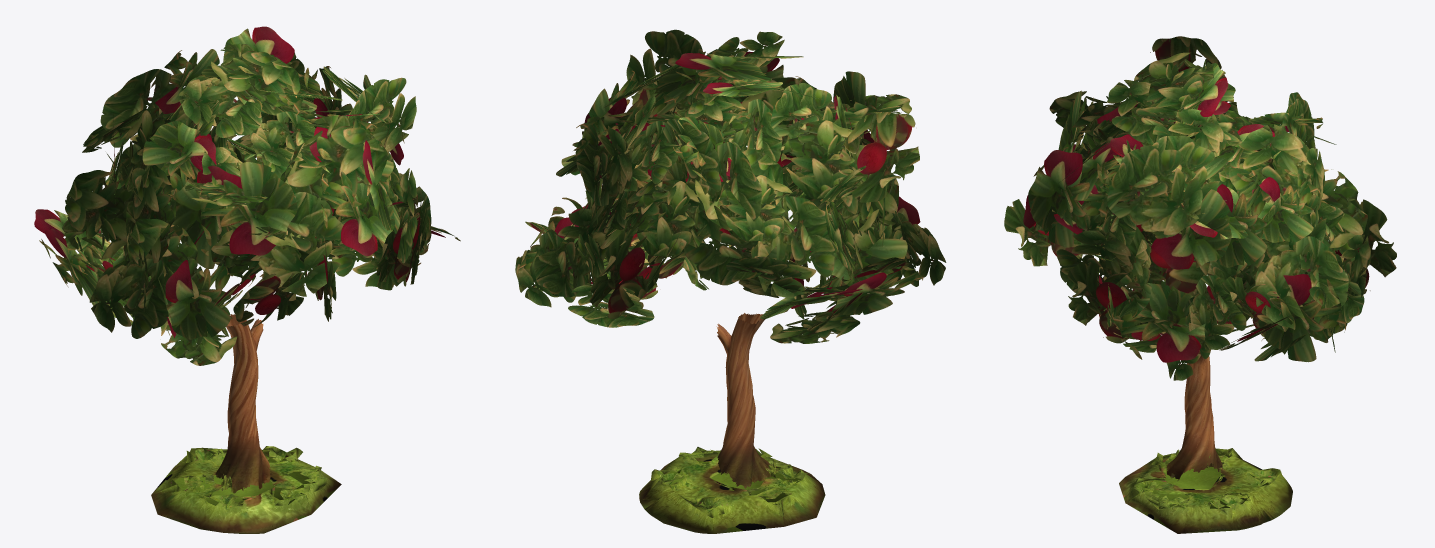
Rendered from Pomegranate_Tree.fbx.
3 renders of one model, left to right at view 1: azimuth 30°, elevation 25°; view 2: azimuth 150°, elevation 25°; view 3: azimuth 270°, elevation 25°, orthographic. The views are drawn at different scales.
Parts seen in each view (by area): view 1: Pomegranate_Tree_LOD0; view 2: Pomegranate_Tree_LOD0; view 3: Pomegranate_Tree_LOD0.
Part boxes in pixels (box(x1,y1,x2,y2)): Pomegranate_Tree_LOD0: box(34, 26, 460, 533); Pomegranate_Tree_LOD0: box(515, 29, 946, 533); Pomegranate_Tree_LOD0: box(1004, 36, 1396, 533).
Size of what is drawn, in the model's own units: 1.63 by 1.78 by 1.6.
Materials: 2 (2 with a texture image).
